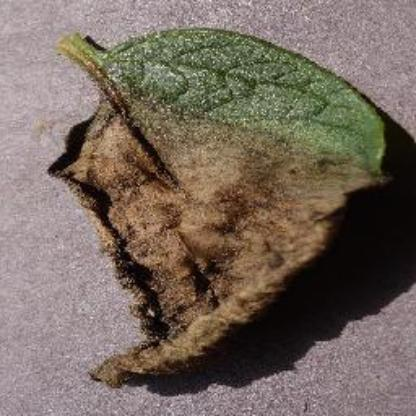Late-Blight: (13, 13, 393, 403)
